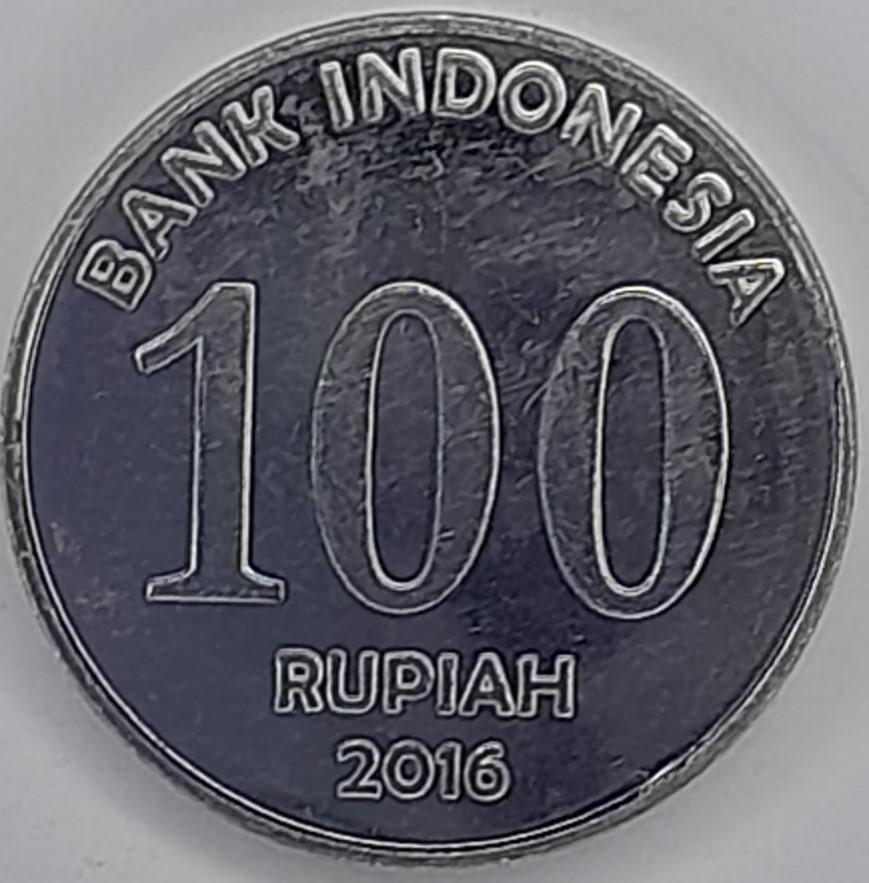coin_100_e2016: (0, 2, 864, 869)
